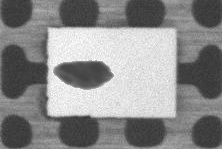DIE_INK: (74, 39, 173, 61)
